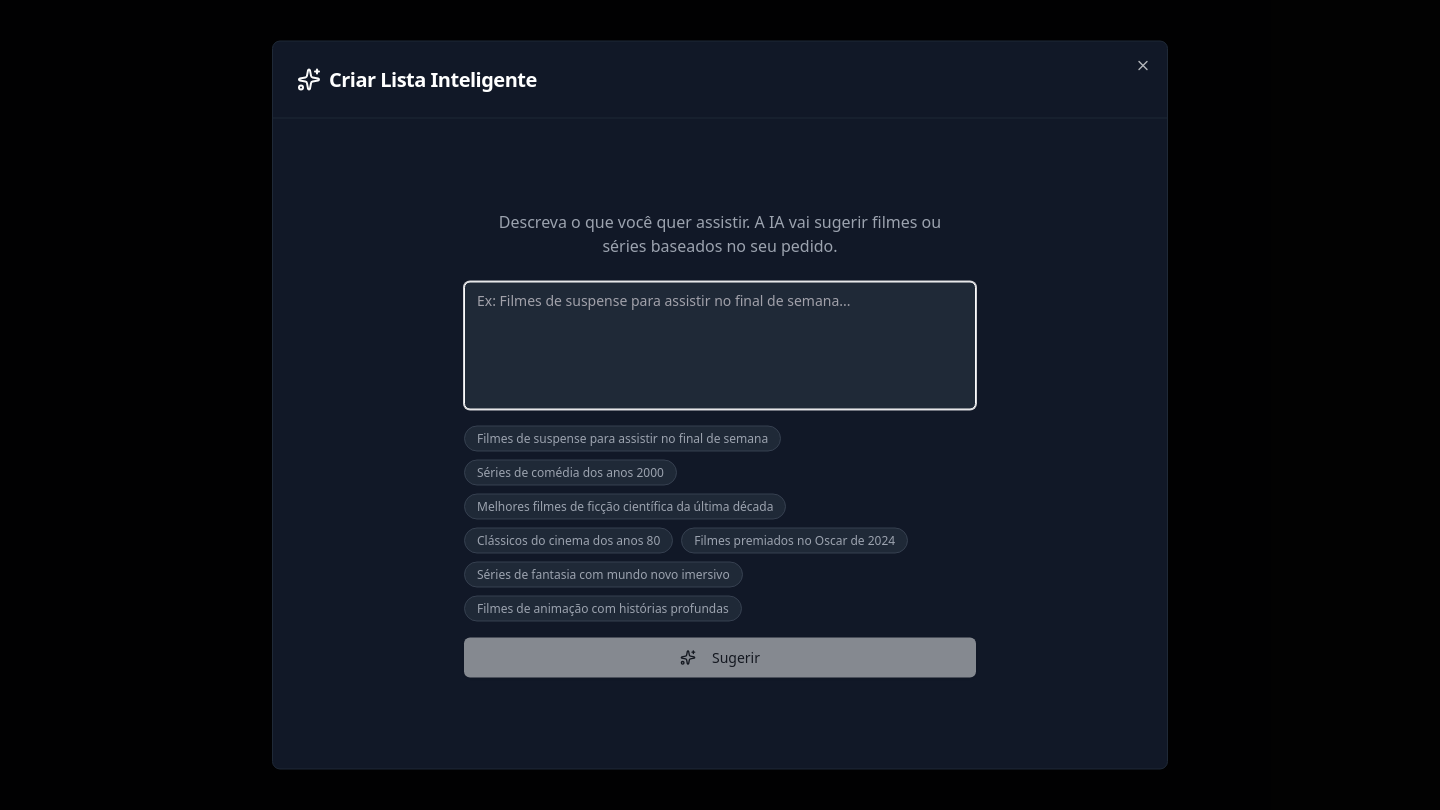
MagicSearchModal › shows no results message when TMDB returns nothing for all items
In the text box with test id "magic-list-prompt-input": coordinates (720, 346) [464,282,976,410], type "filmes de ficção"
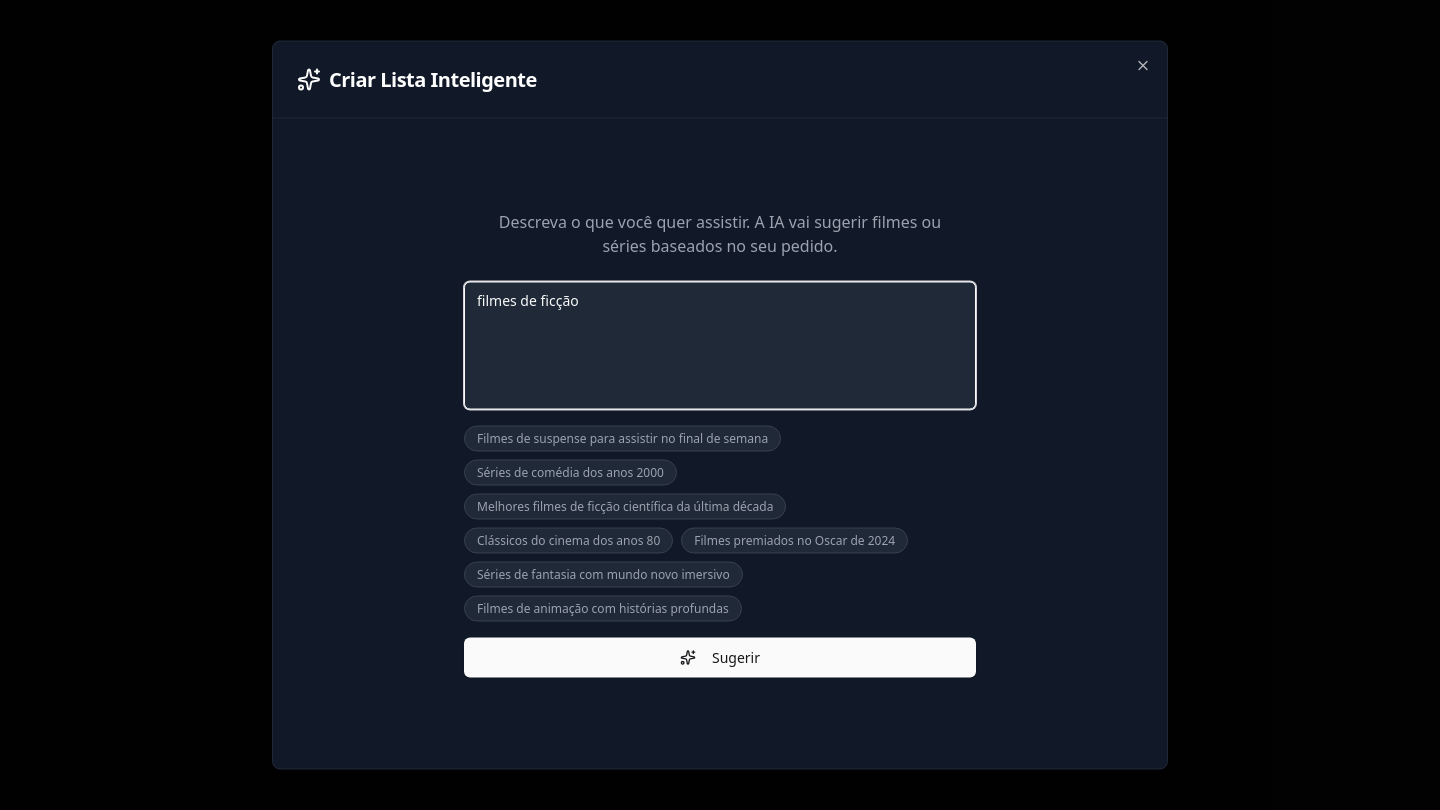
Click the button "Sugerir": coordinates (720, 658) [464,638,976,678]
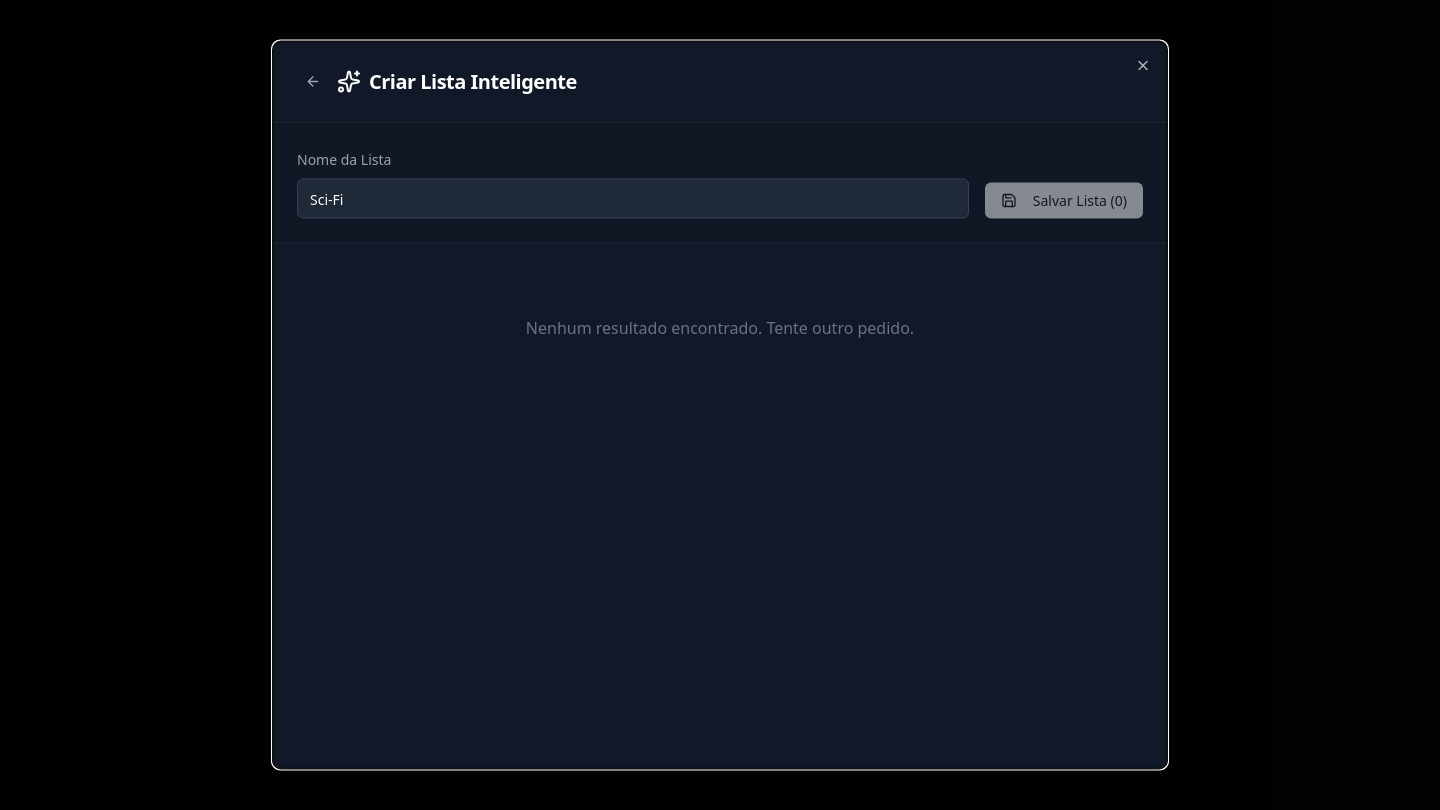
Result: the text "Nenhum resultado encontrado. Tente outro pedido." is shown at [526,316,914,338]
